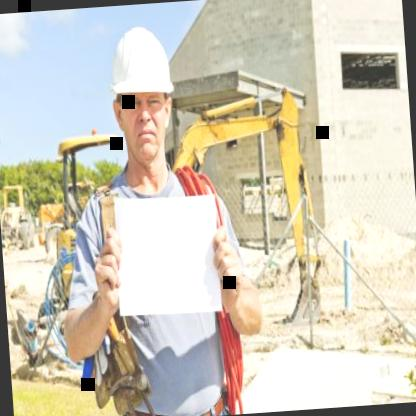helmet: (97, 15, 185, 179)
